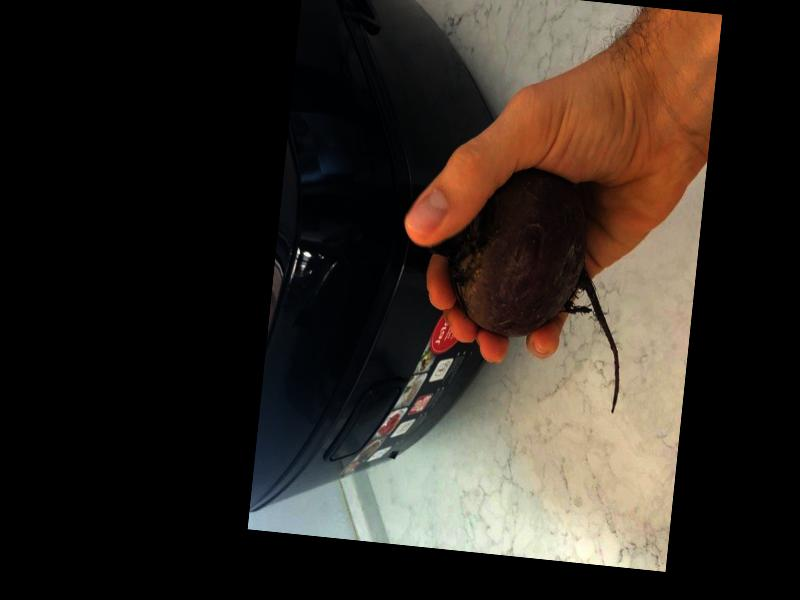Beet: (416, 160, 639, 413)
